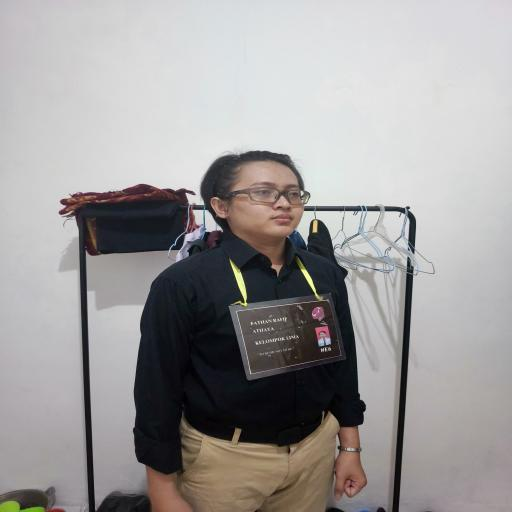celana_salah: (176, 425, 346, 512)
kemeja_salah: (130, 250, 370, 420)
nametag_ada: (216, 270, 356, 383)
sabuk_ada: (177, 420, 341, 444)
